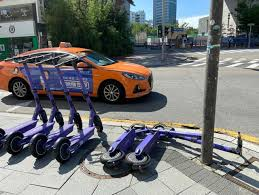fallin_kick: (125, 122, 242, 169)
kick_body: (74, 130, 92, 148)
kick_wheel: (53, 137, 71, 161), (5, 130, 23, 153), (29, 134, 46, 157), (94, 115, 103, 132), (74, 114, 83, 128), (39, 111, 47, 120)
